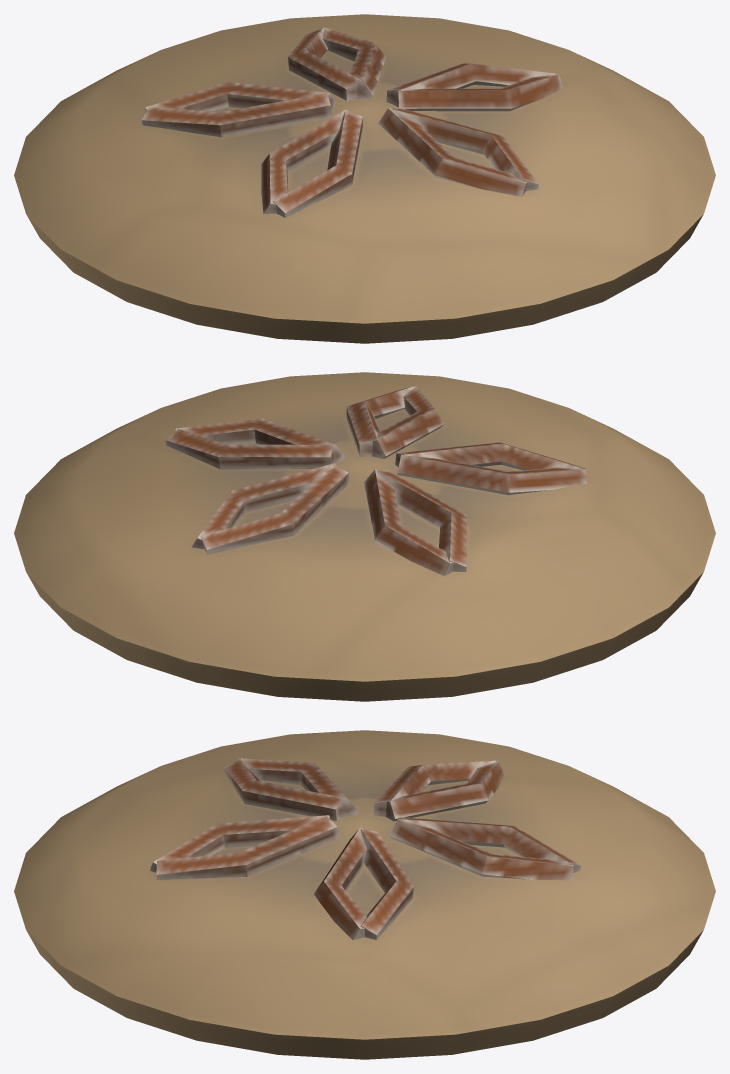
File: sand_dollar.glb
3 renders of one model, top to bottom at view 1: azimuth 30°, elevation 25°; view 2: azimuth 150°, elevation 25°; view 3: azimuth 270°, elevation 25°, orthographic.
Visible parts, largest first — view 1: SM_SandDollar; view 2: SM_SandDollar; view 3: SM_SandDollar.
Part boxes in pixels (x1,y1,x2,y2): SM_SandDollar: [14, 14, 715, 343]; SM_SandDollar: [14, 372, 715, 701]; SM_SandDollar: [14, 730, 715, 1059].
Bounding box in the file's own units: 0.292 × 0.0482 × 0.292.
2 materials, 2 textured.
